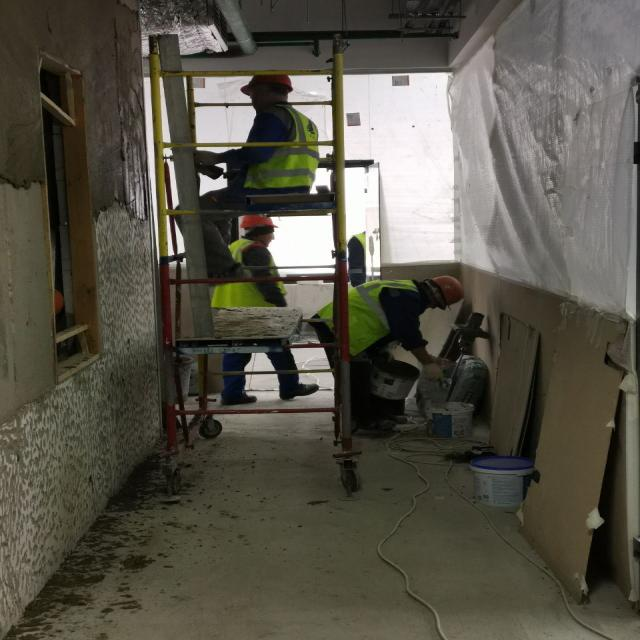Helmet: (431, 278, 466, 311), (239, 76, 295, 96), (241, 218, 280, 232)
Jacket: (323, 281, 423, 338), (247, 109, 318, 189), (217, 244, 276, 309)
